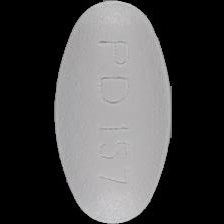55289-861: (0, 0, 224, 224)
